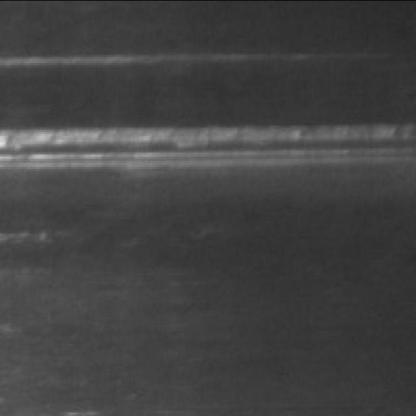scratches: (2, 123, 416, 177), (4, 50, 298, 75)
